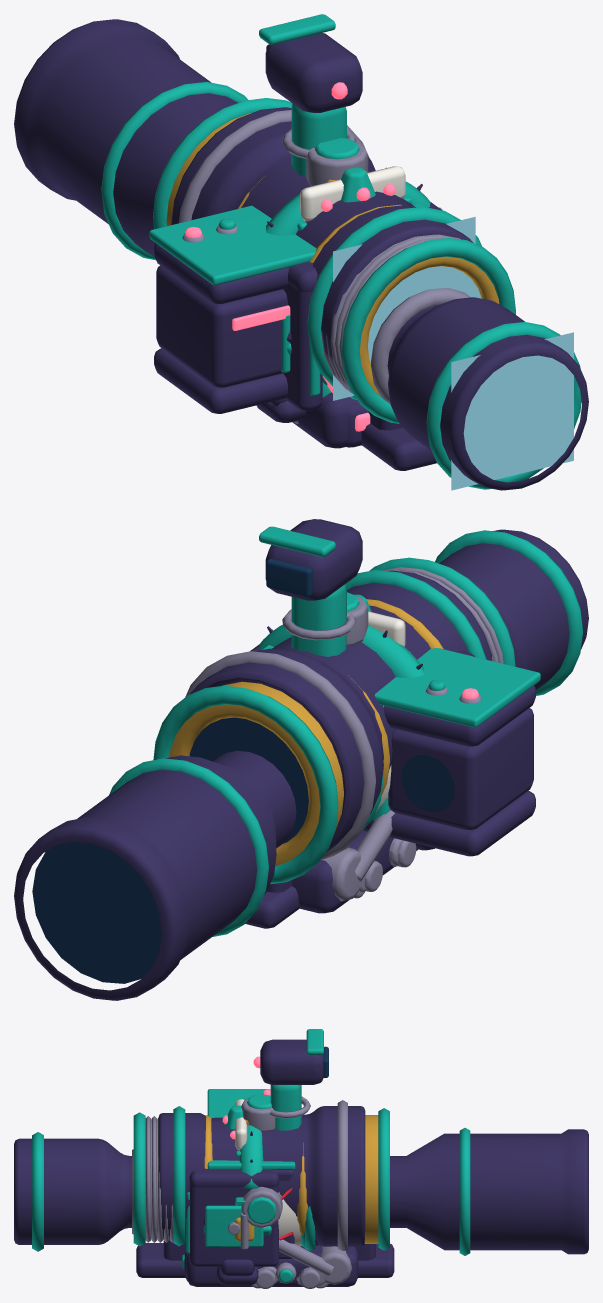
Rendered from sights.glb.
The picture shows the model from 3 angles, top to bottom: view 1: azimuth 30°, elevation 25°; view 2: azimuth 150°, elevation 25°; view 3: azimuth 270°, elevation 25°; orthographic projection. The views are drawn at different scales.
Parts seen in each view (by area): view 1: Scope_Body, Ranger_Body, Prism_Body, Brass_Body, Scope_Lens, Periscope_Body, Holo_Body, Brass_Lens, Gallery_Body, Eye_Body, Prism_Lens, Gem_Body (+1 smaller); view 2: Scope_Body, Ranger_Body, Prism_Body, Brass_Body, Periscope_Body, Holo_Body, Eye_Body, Reflex_Body, Gallery_Body; view 3: Scope_Body, Prism_Body, Holo_Body, Brass_Body, Periscope_Body, Reflex_Body, Ranger_Body, Eye_Body, Gallery_Body, Porthole_Body, Tube_Body.
Boxes of the visible parts, x1,y1,x2,y2 form: Scope_Body: (14, 19, 588, 490); Ranger_Body: (149, 202, 428, 423); Prism_Body: (171, 107, 481, 447); Brass_Body: (153, 98, 515, 423); Scope_Lens: (451, 332, 573, 490); Periscope_Body: (259, 14, 362, 176); Holo_Body: (281, 202, 441, 448); Brass_Lens: (368, 266, 481, 363); Gallery_Body: (297, 166, 411, 230); Eye_Body: (266, 167, 430, 236); Prism_Lens: (333, 216, 475, 400); Gem_Body: (341, 167, 375, 202); Scope_Body: (14, 529, 588, 1000); Ranger_Body: (262, 645, 540, 856); Prism_Body: (185, 570, 492, 859); Brass_Body: (153, 557, 515, 884); Periscope_Body: (259, 519, 362, 656); Holo_Body: (250, 644, 474, 913); Eye_Body: (259, 624, 423, 811); Reflex_Body: (353, 810, 434, 898); Gallery_Body: (368, 611, 410, 652); Scope_Body: (14, 1128, 588, 1277); Prism_Body: (158, 1094, 365, 1281); Holo_Body: (182, 1168, 358, 1288); Brass_Body: (133, 1108, 389, 1250); Periscope_Body: (253, 1029, 328, 1130); Reflex_Body: (217, 1239, 333, 1288); Ranger_Body: (207, 1089, 301, 1285); Eye_Body: (239, 1125, 301, 1246); Gallery_Body: (230, 1099, 247, 1156); Porthole_Body: (235, 1213, 254, 1249); Tube_Body: (263, 1206, 318, 1250).
Size of the model in its own units: 0.1225 by 0.1494 by 0.334.
